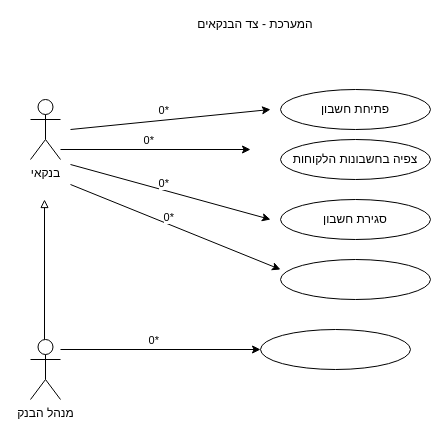
Some shapes in this 448 by 437 pixel diagram are drawn without their labels. The box of each missing label's shape, as (x1, y1, x2, y2) in pixels:
אישור הלוואות: (280, 258, 430, 300)
צפיה במאזן הבנק: (260, 328, 410, 370)
